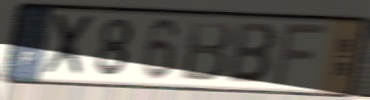6: (141, 17, 183, 83)
8: (94, 17, 135, 79)
B: (178, 18, 236, 85), (225, 20, 280, 86)
F: (270, 22, 332, 89)
X: (40, 12, 97, 80)
